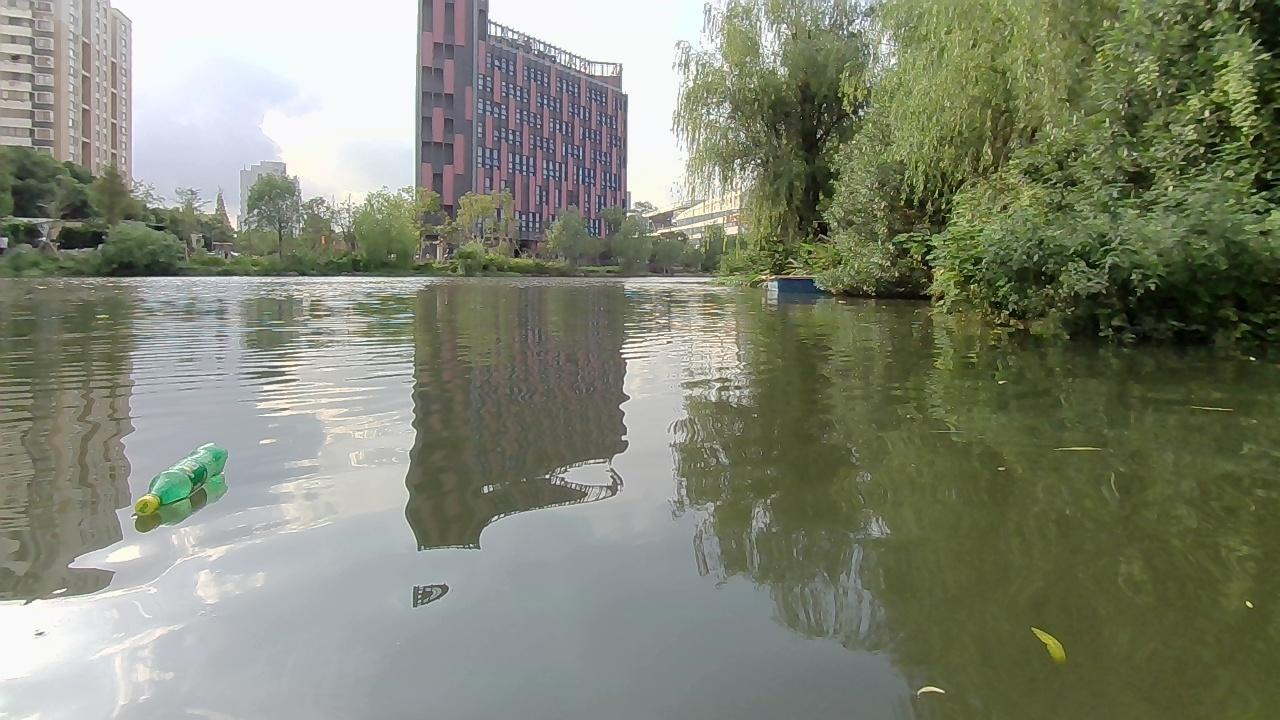bottle: (122, 437, 238, 518)
